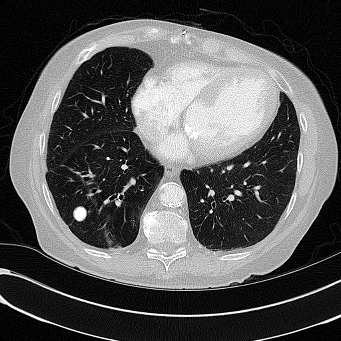nodule: (72, 206, 88, 222)
